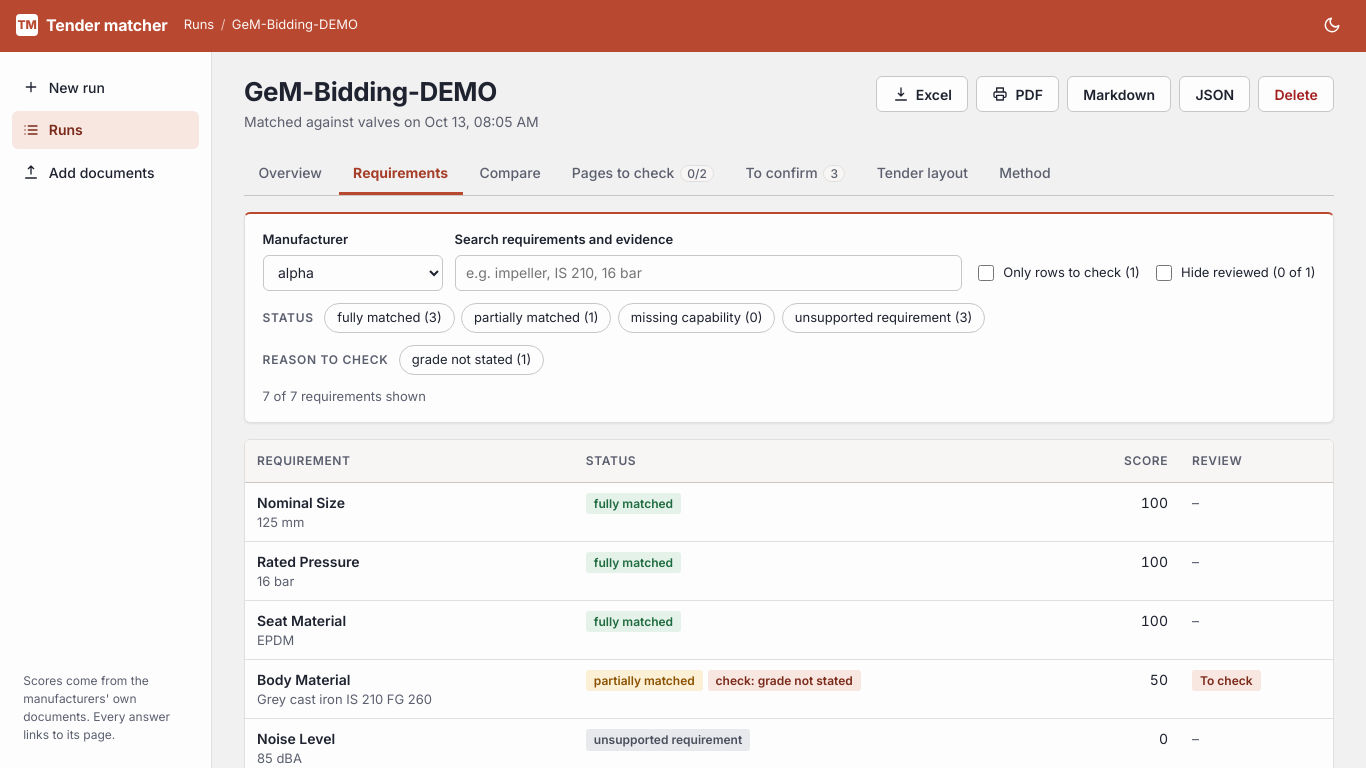
Test: the report › filters the requirements and says how many are shown
The width and height of the screenshot is (1366, 768).
Expected: the text "7 of 7 requirements shown" is shown, x1=263 y1=388 x2=426 y2=404
Step 1. Click the button "grade not stated (1)" → (471, 360), box x1=399 y1=345 x2=544 y2=375
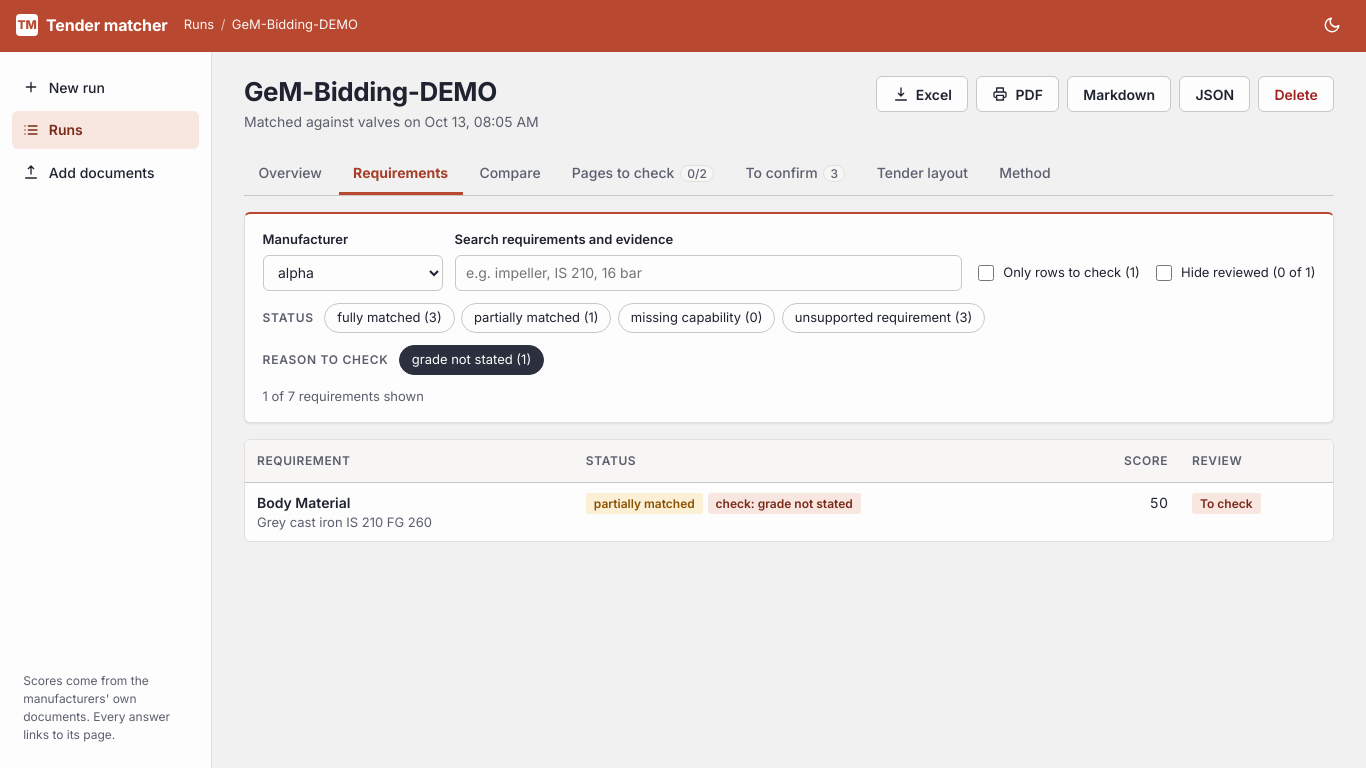
Now the text "1 of 7 requirements shown" is shown, box x1=263 y1=388 x2=424 y2=404
